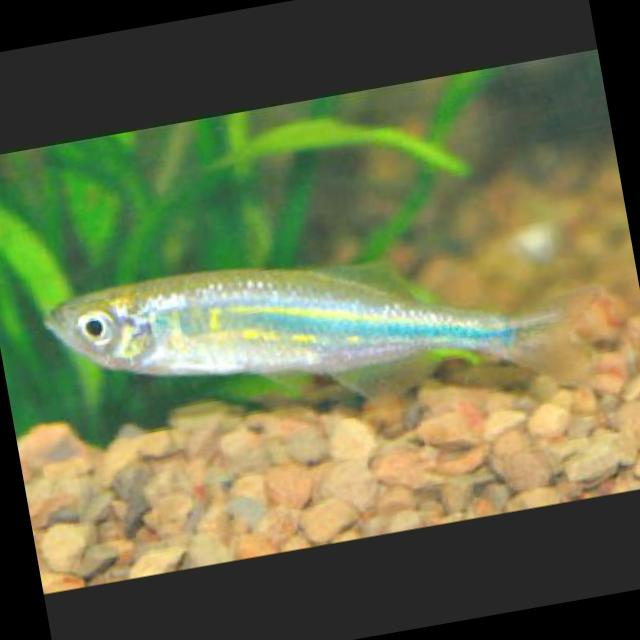ZebraFish: (42, 197, 608, 468)
